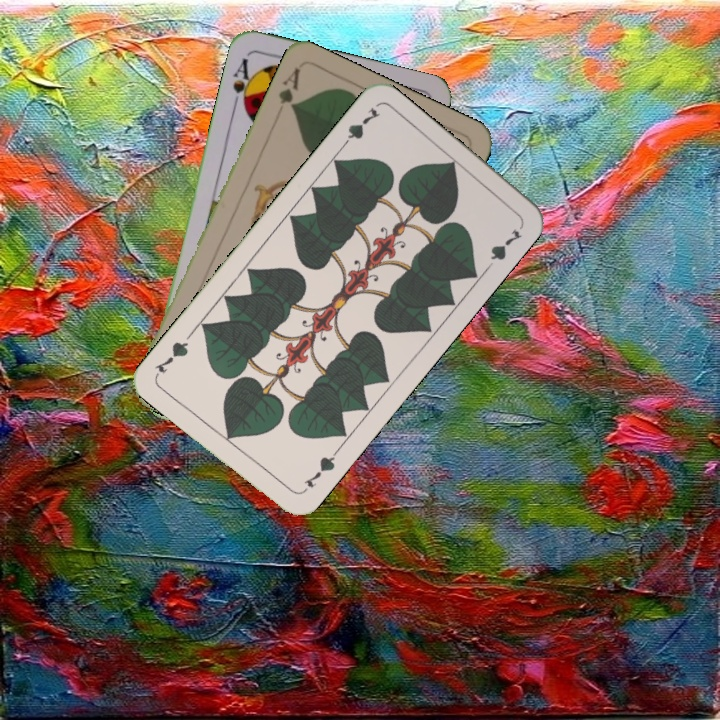G7: (336, 103, 383, 152), (300, 446, 340, 490)
GA: (274, 63, 303, 112)
SA: (228, 54, 258, 114)
